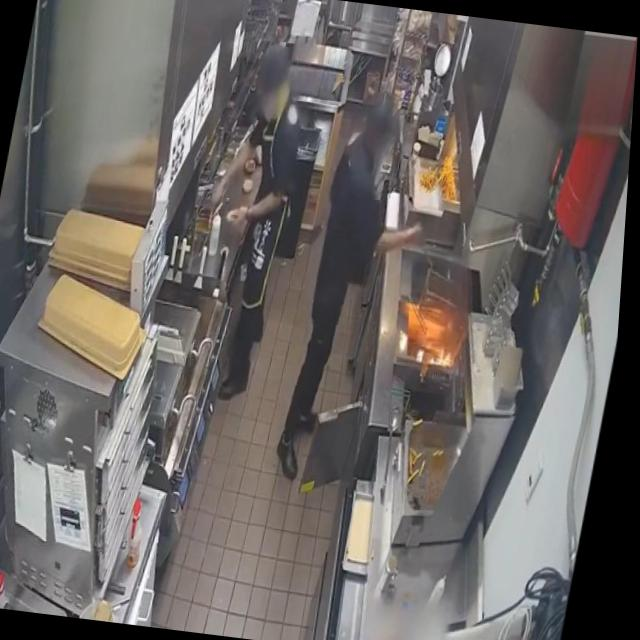fire: (429, 343, 462, 368)
